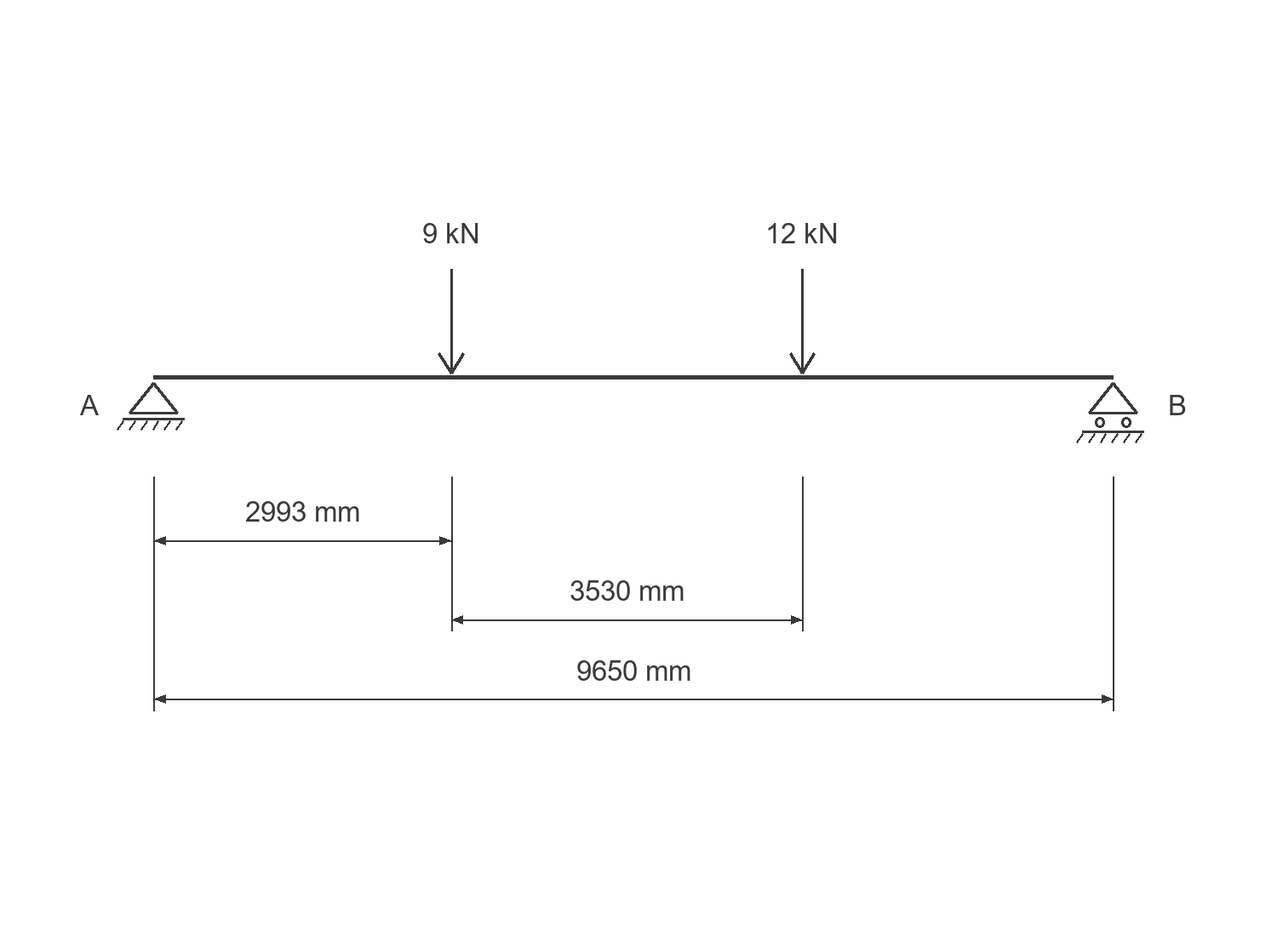pin_support: (117, 382, 185, 431)
point_load: (438, 269, 465, 374), (789, 269, 816, 374)
roller_support: (1076, 382, 1144, 443)
